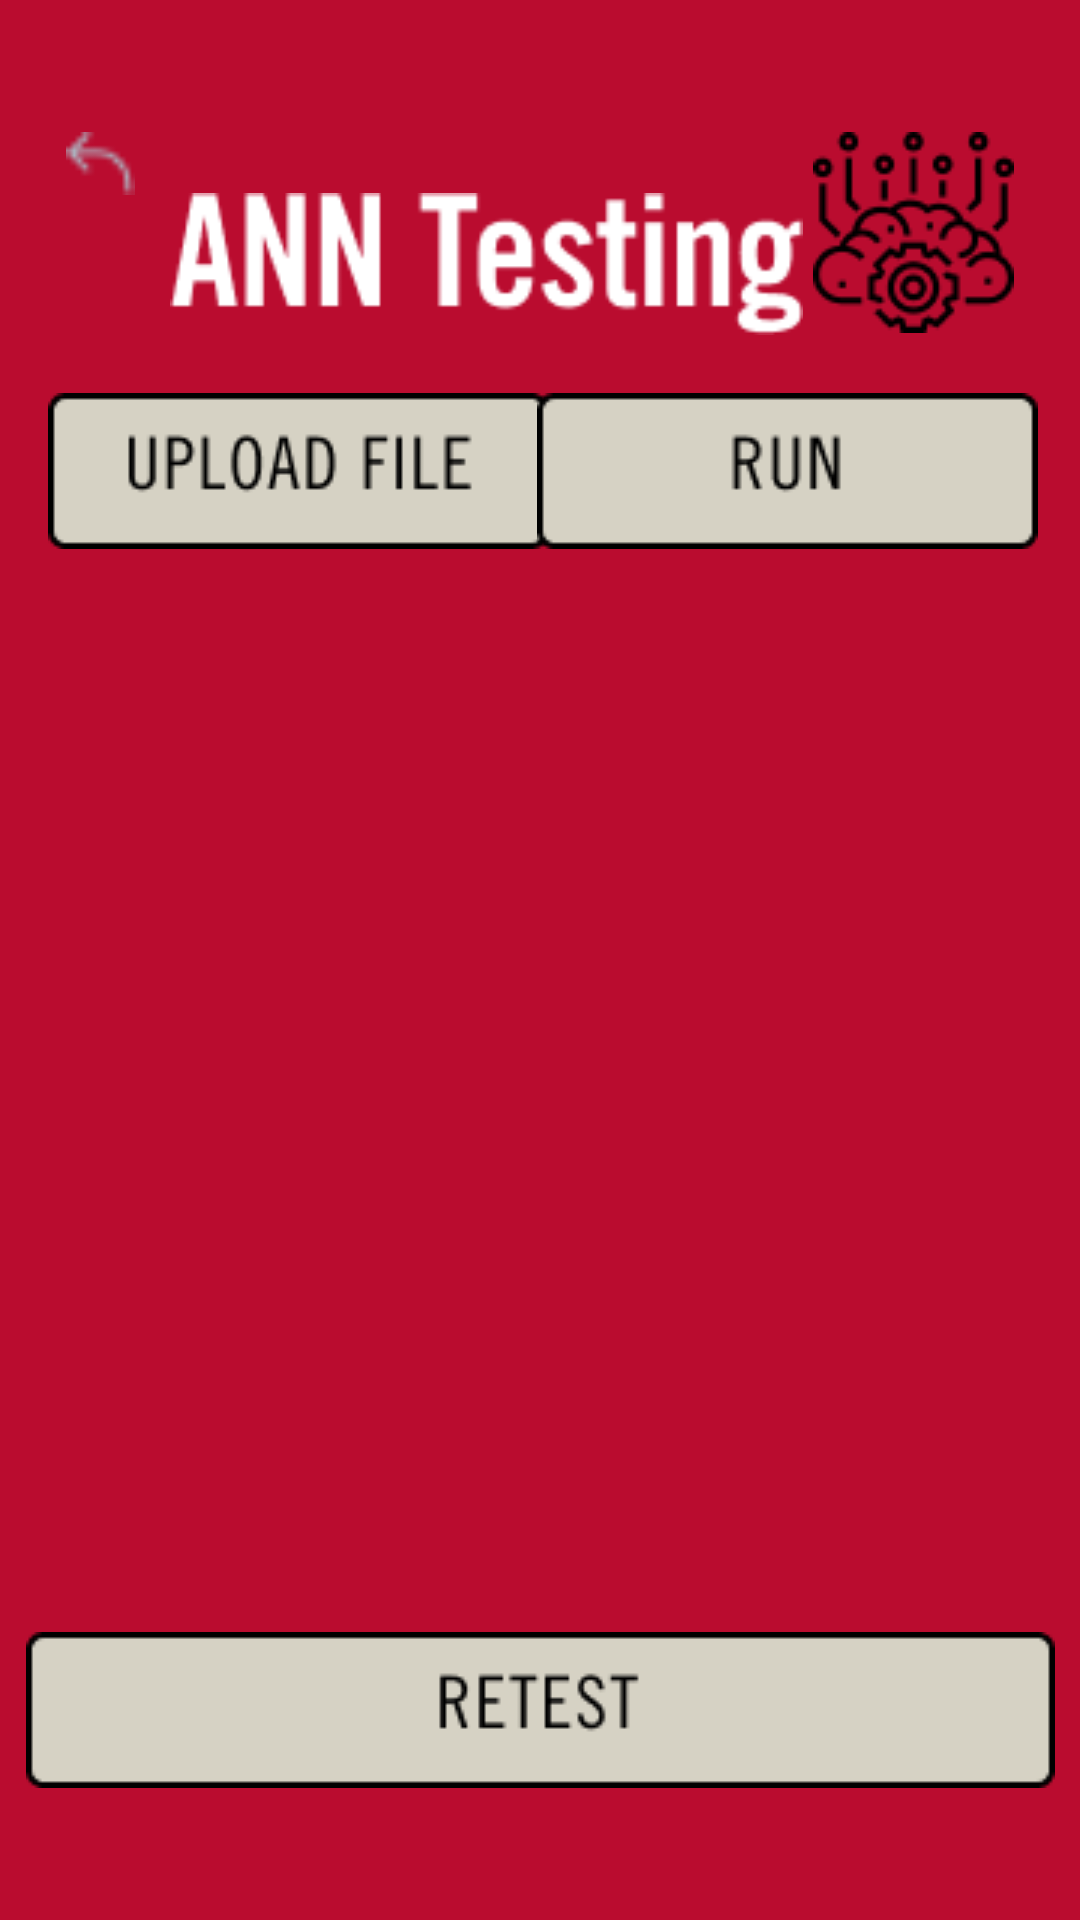

Where icons sit on this 1080*1920 app screen, as {"x1": x1, "y1": y1, "x2": x2, "y2": y2}:
back: {"x1": 66, "y1": 132, "x2": 135, "y2": 195}
